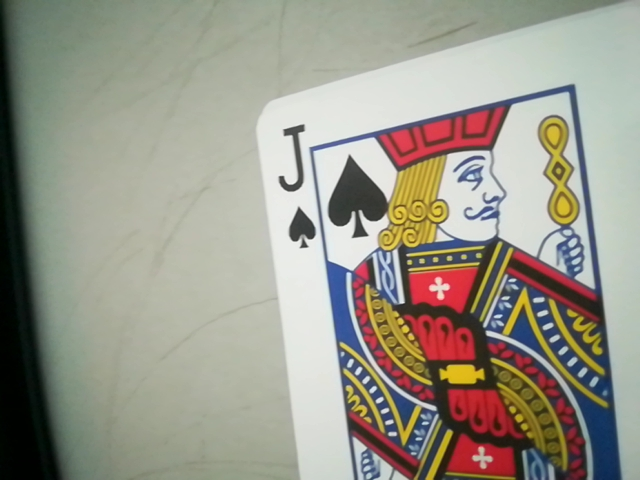ht j: (265, 122, 330, 256)
